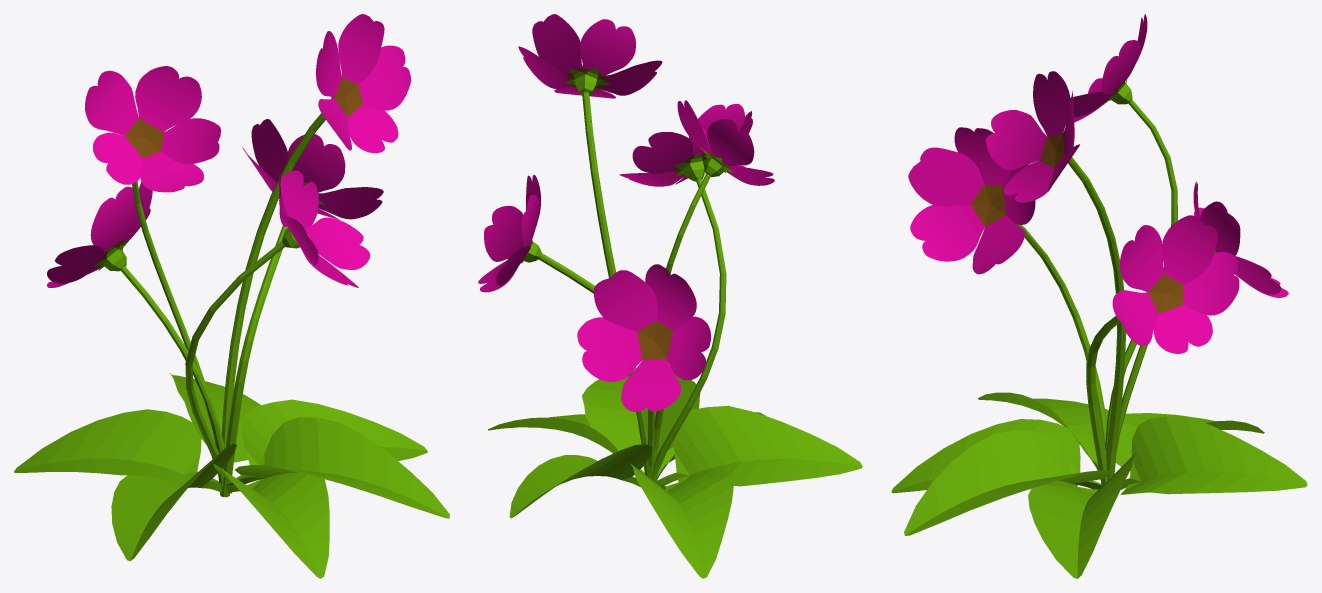
File: RozeBloem_02(1).fbx
3 renders of one model, left to right at view 1: azimuth 30°, elevation 25°; view 2: azimuth 150°, elevation 25°; view 3: azimuth 270°, elevation 25°, orthographic. The views are drawn at different scales.
Visible parts, largest first — view 1: Mesh2; view 2: Mesh2; view 3: Mesh2.
Part boxes in pixels (<box>): Mesh2: <box>14,14,449,578</box>; Mesh2: <box>478,14,862,578</box>; Mesh2: <box>891,14,1307,578</box>.
Bounding box in the file's own units: 0.0056 × 0.00717 × 0.00582.
